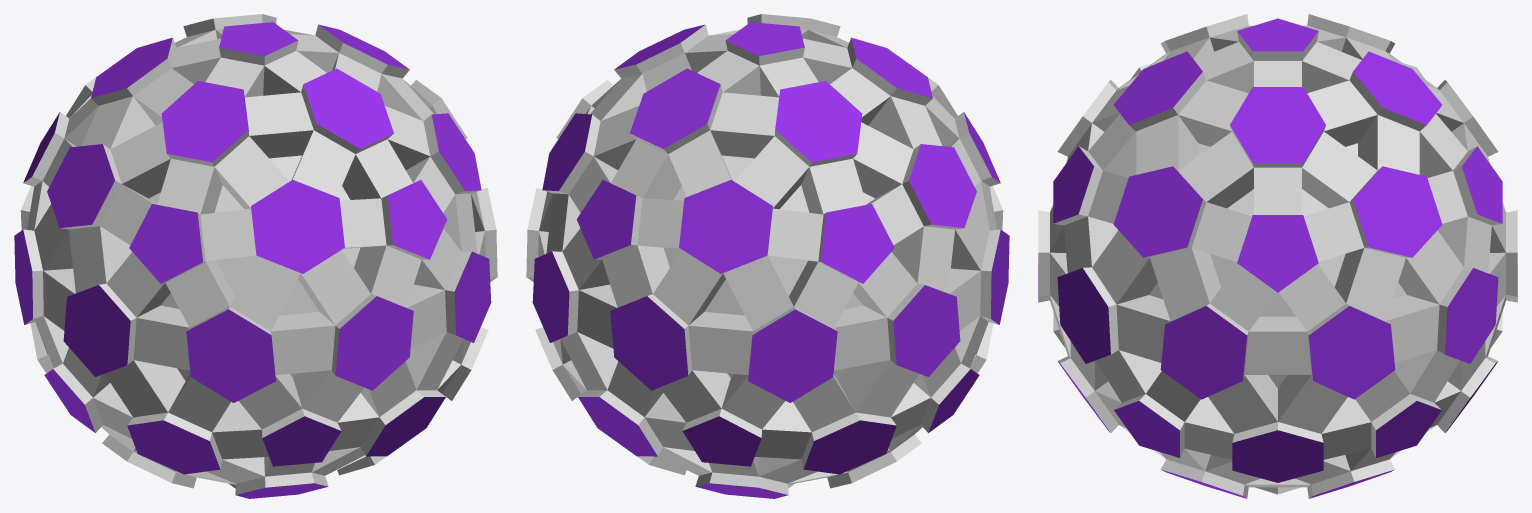
Rendered from purpleboss4.fbx.
The picture shows the model from 3 angles, left to right: view 1: azimuth 30°, elevation 25°; view 2: azimuth 150°, elevation 25°; view 3: azimuth 270°, elevation 25°; orthographic projection.
Parts seen in each view (by area): view 1: Icosphere; view 2: Icosphere; view 3: Icosphere.
Boxes of the visible parts, x1,y1,x2,y2 form: Icosphere: (14, 14, 497, 498); Icosphere: (526, 14, 1009, 498); Icosphere: (1038, 14, 1517, 498).
Size of the model in its own units: 197 by 198 by 195.
